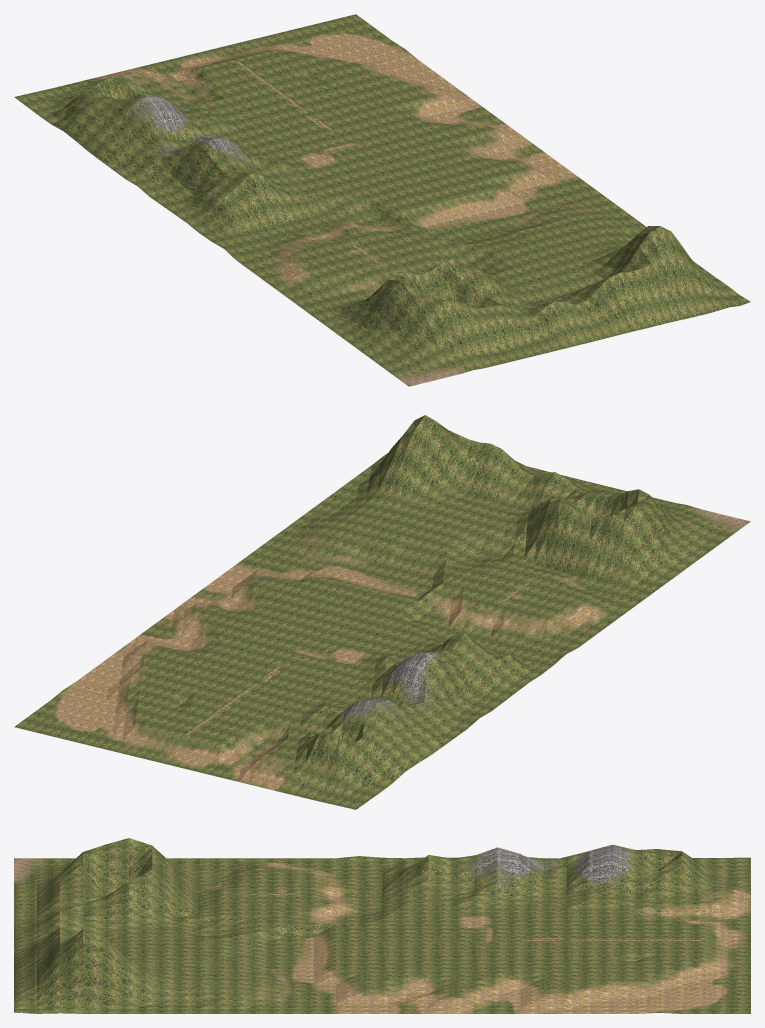
3 views of the same model, one above another, from view 1: azimuth 30°, elevation 25°; view 2: azimuth 150°, elevation 25°; view 3: azimuth 270°, elevation 25° (orthographic). The views are drawn at different scales.
Visible parts, largest first — view 1: Mesh; view 2: Mesh; view 3: Mesh.
Boxes of the visible parts, box(x1,y1,x2,y2) form: Mesh: box(14, 14, 750, 386); Mesh: box(14, 415, 750, 809); Mesh: box(14, 838, 750, 1013).
Bounding box in the file's own units: 2500 × 441 × 5000.
1 material, 1 textured.
